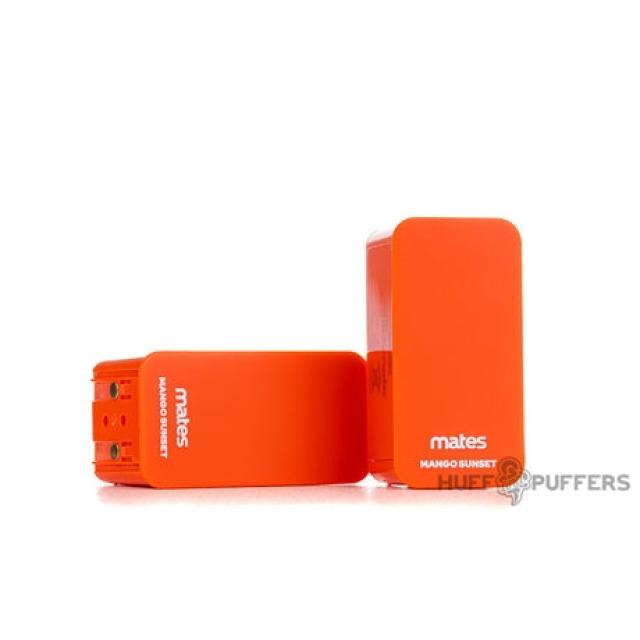Hazard: (363, 214, 525, 490)
